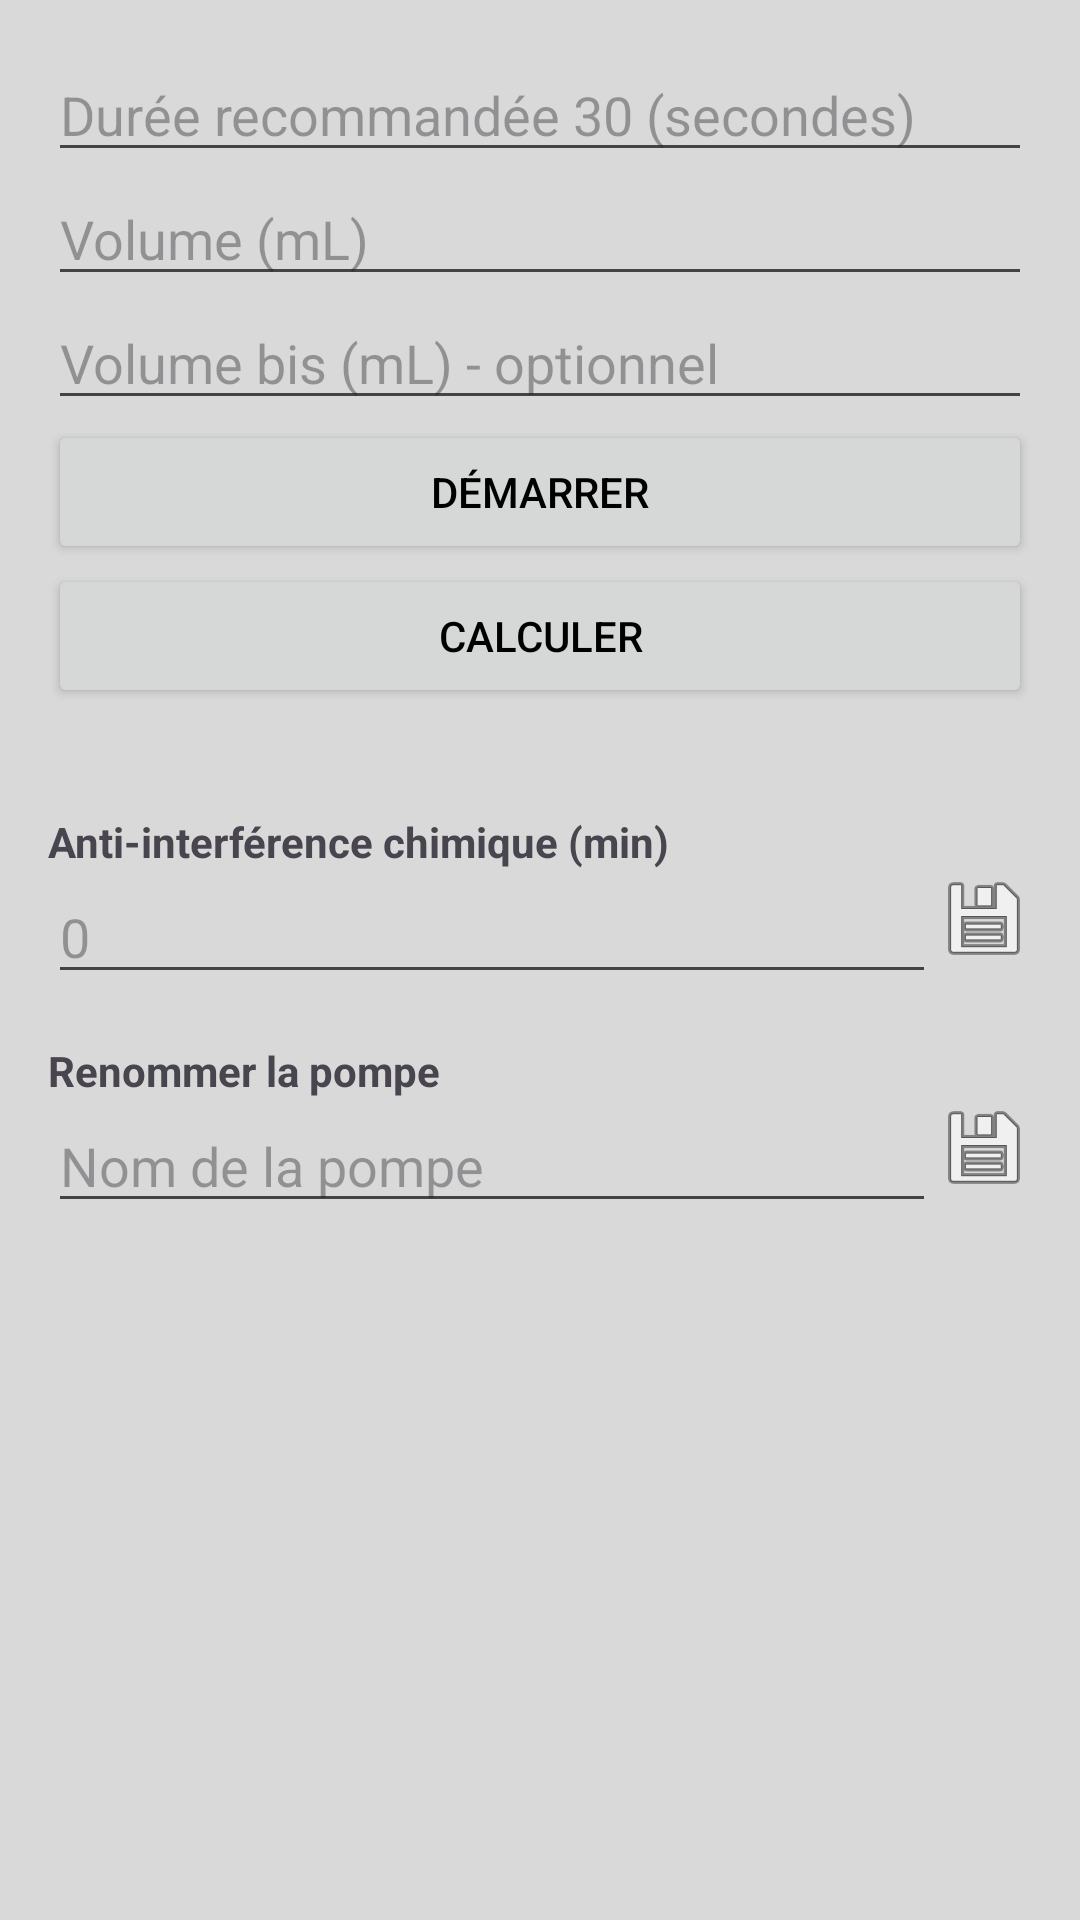

Icons on this 1080×1920 Android screen, each with the point to tap as (x,y):
Sauvegarder anti-interférence: (984,918)
Sauvegarder le nom: (984,1147)
